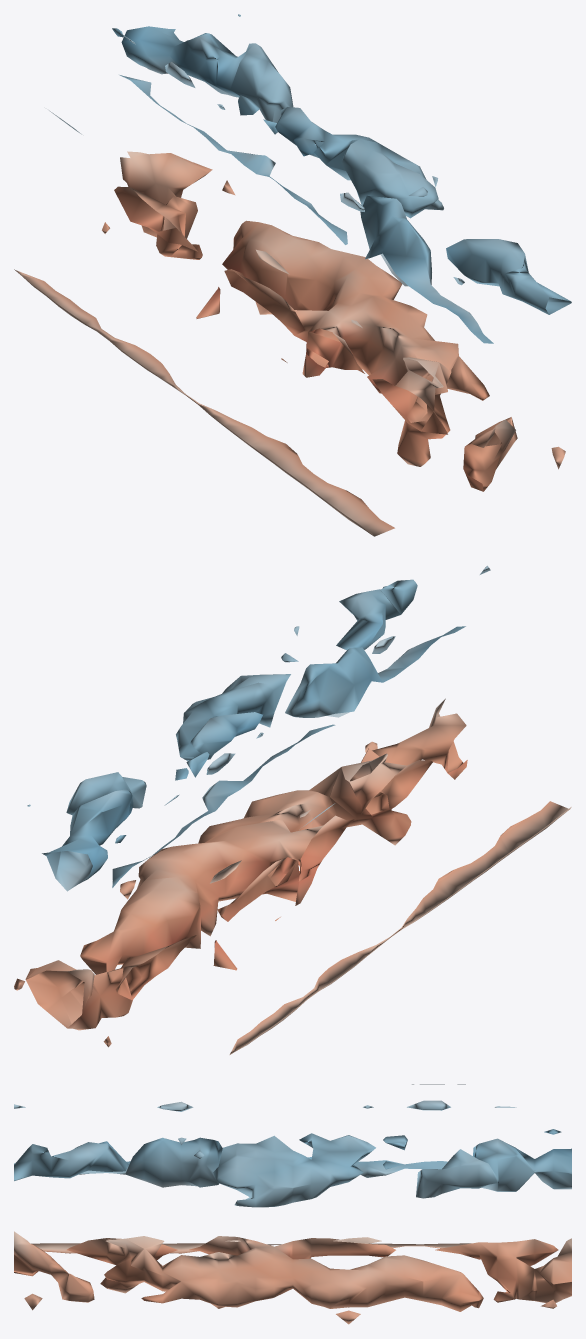
3 renders of one model, top to bottom at view 1: azimuth 30°, elevation 25°; view 2: azimuth 150°, elevation 25°; view 3: azimuth 270°, elevation 25°, orthographic. The views are drawn at different scales.
Bounding box in the file's own units: 1.03 × 0.9138 × 2.5.
